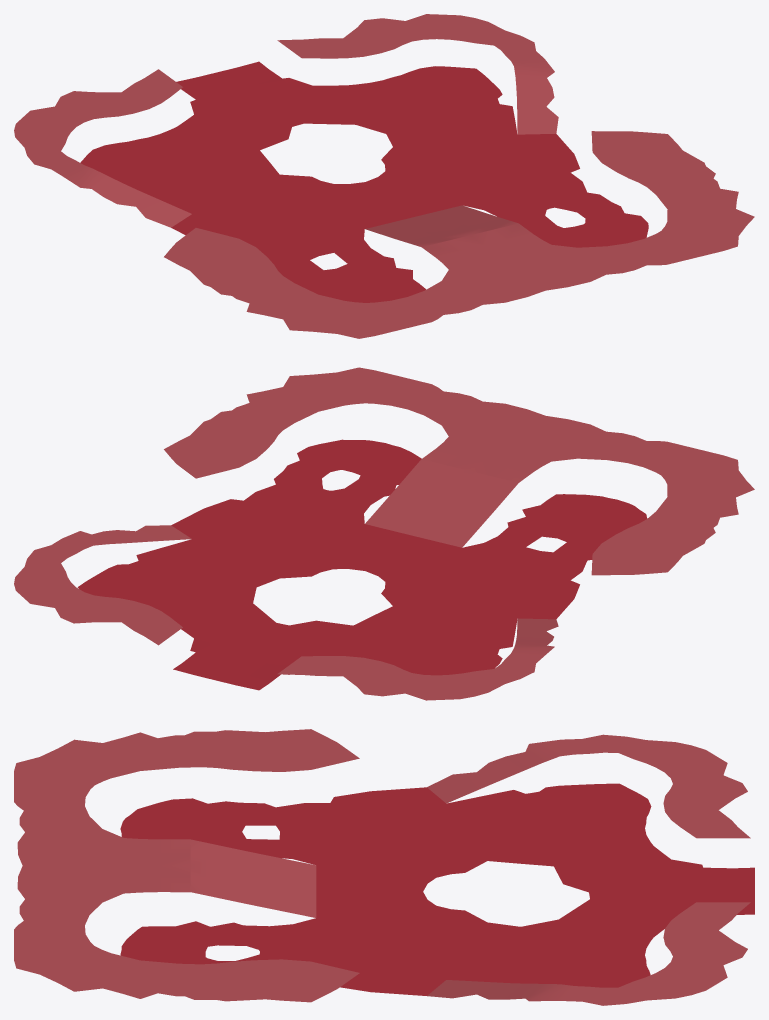
The model's file is navmesh_arena.fbx.
3 renders of one model, top to bottom at view 1: azimuth 30°, elevation 25°; view 2: azimuth 150°, elevation 25°; view 3: azimuth 270°, elevation 25°, orthographic. The views are drawn at different scales.
Parts seen in each view (by area): view 1: navmesh_arena; view 2: navmesh_arena; view 3: navmesh_arena.
Part boxes in pixels (x1,y1,x2,y2): navmesh_arena: [14, 14, 754, 338]; navmesh_arena: [14, 367, 754, 700]; navmesh_arena: [14, 729, 754, 1005].
Size of the model in its own units: 389 by 17.24 by 446.
